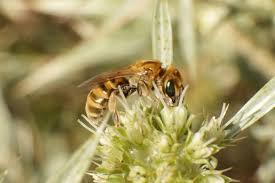Seladonia: (75, 50, 188, 124)
